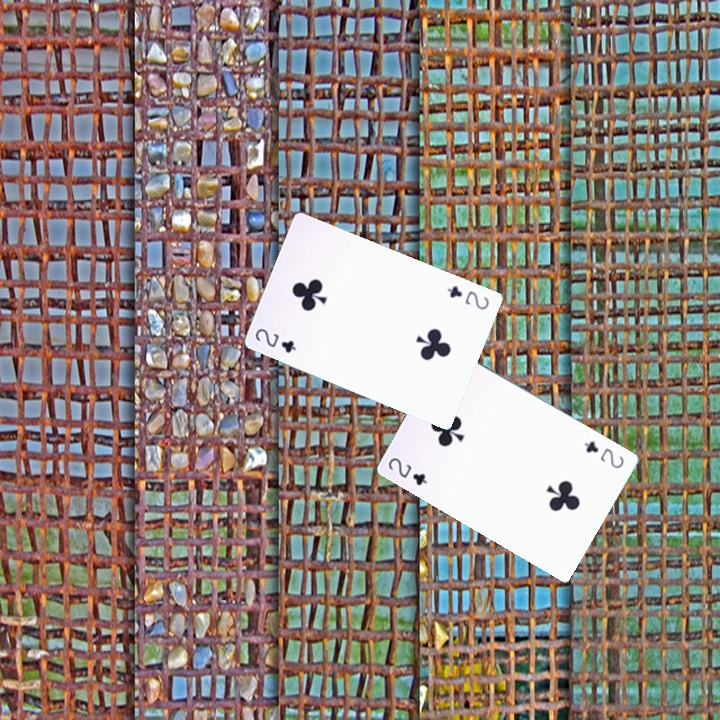2c: (580, 436, 627, 471), (384, 453, 430, 488), (443, 281, 492, 312), (251, 324, 299, 355)
